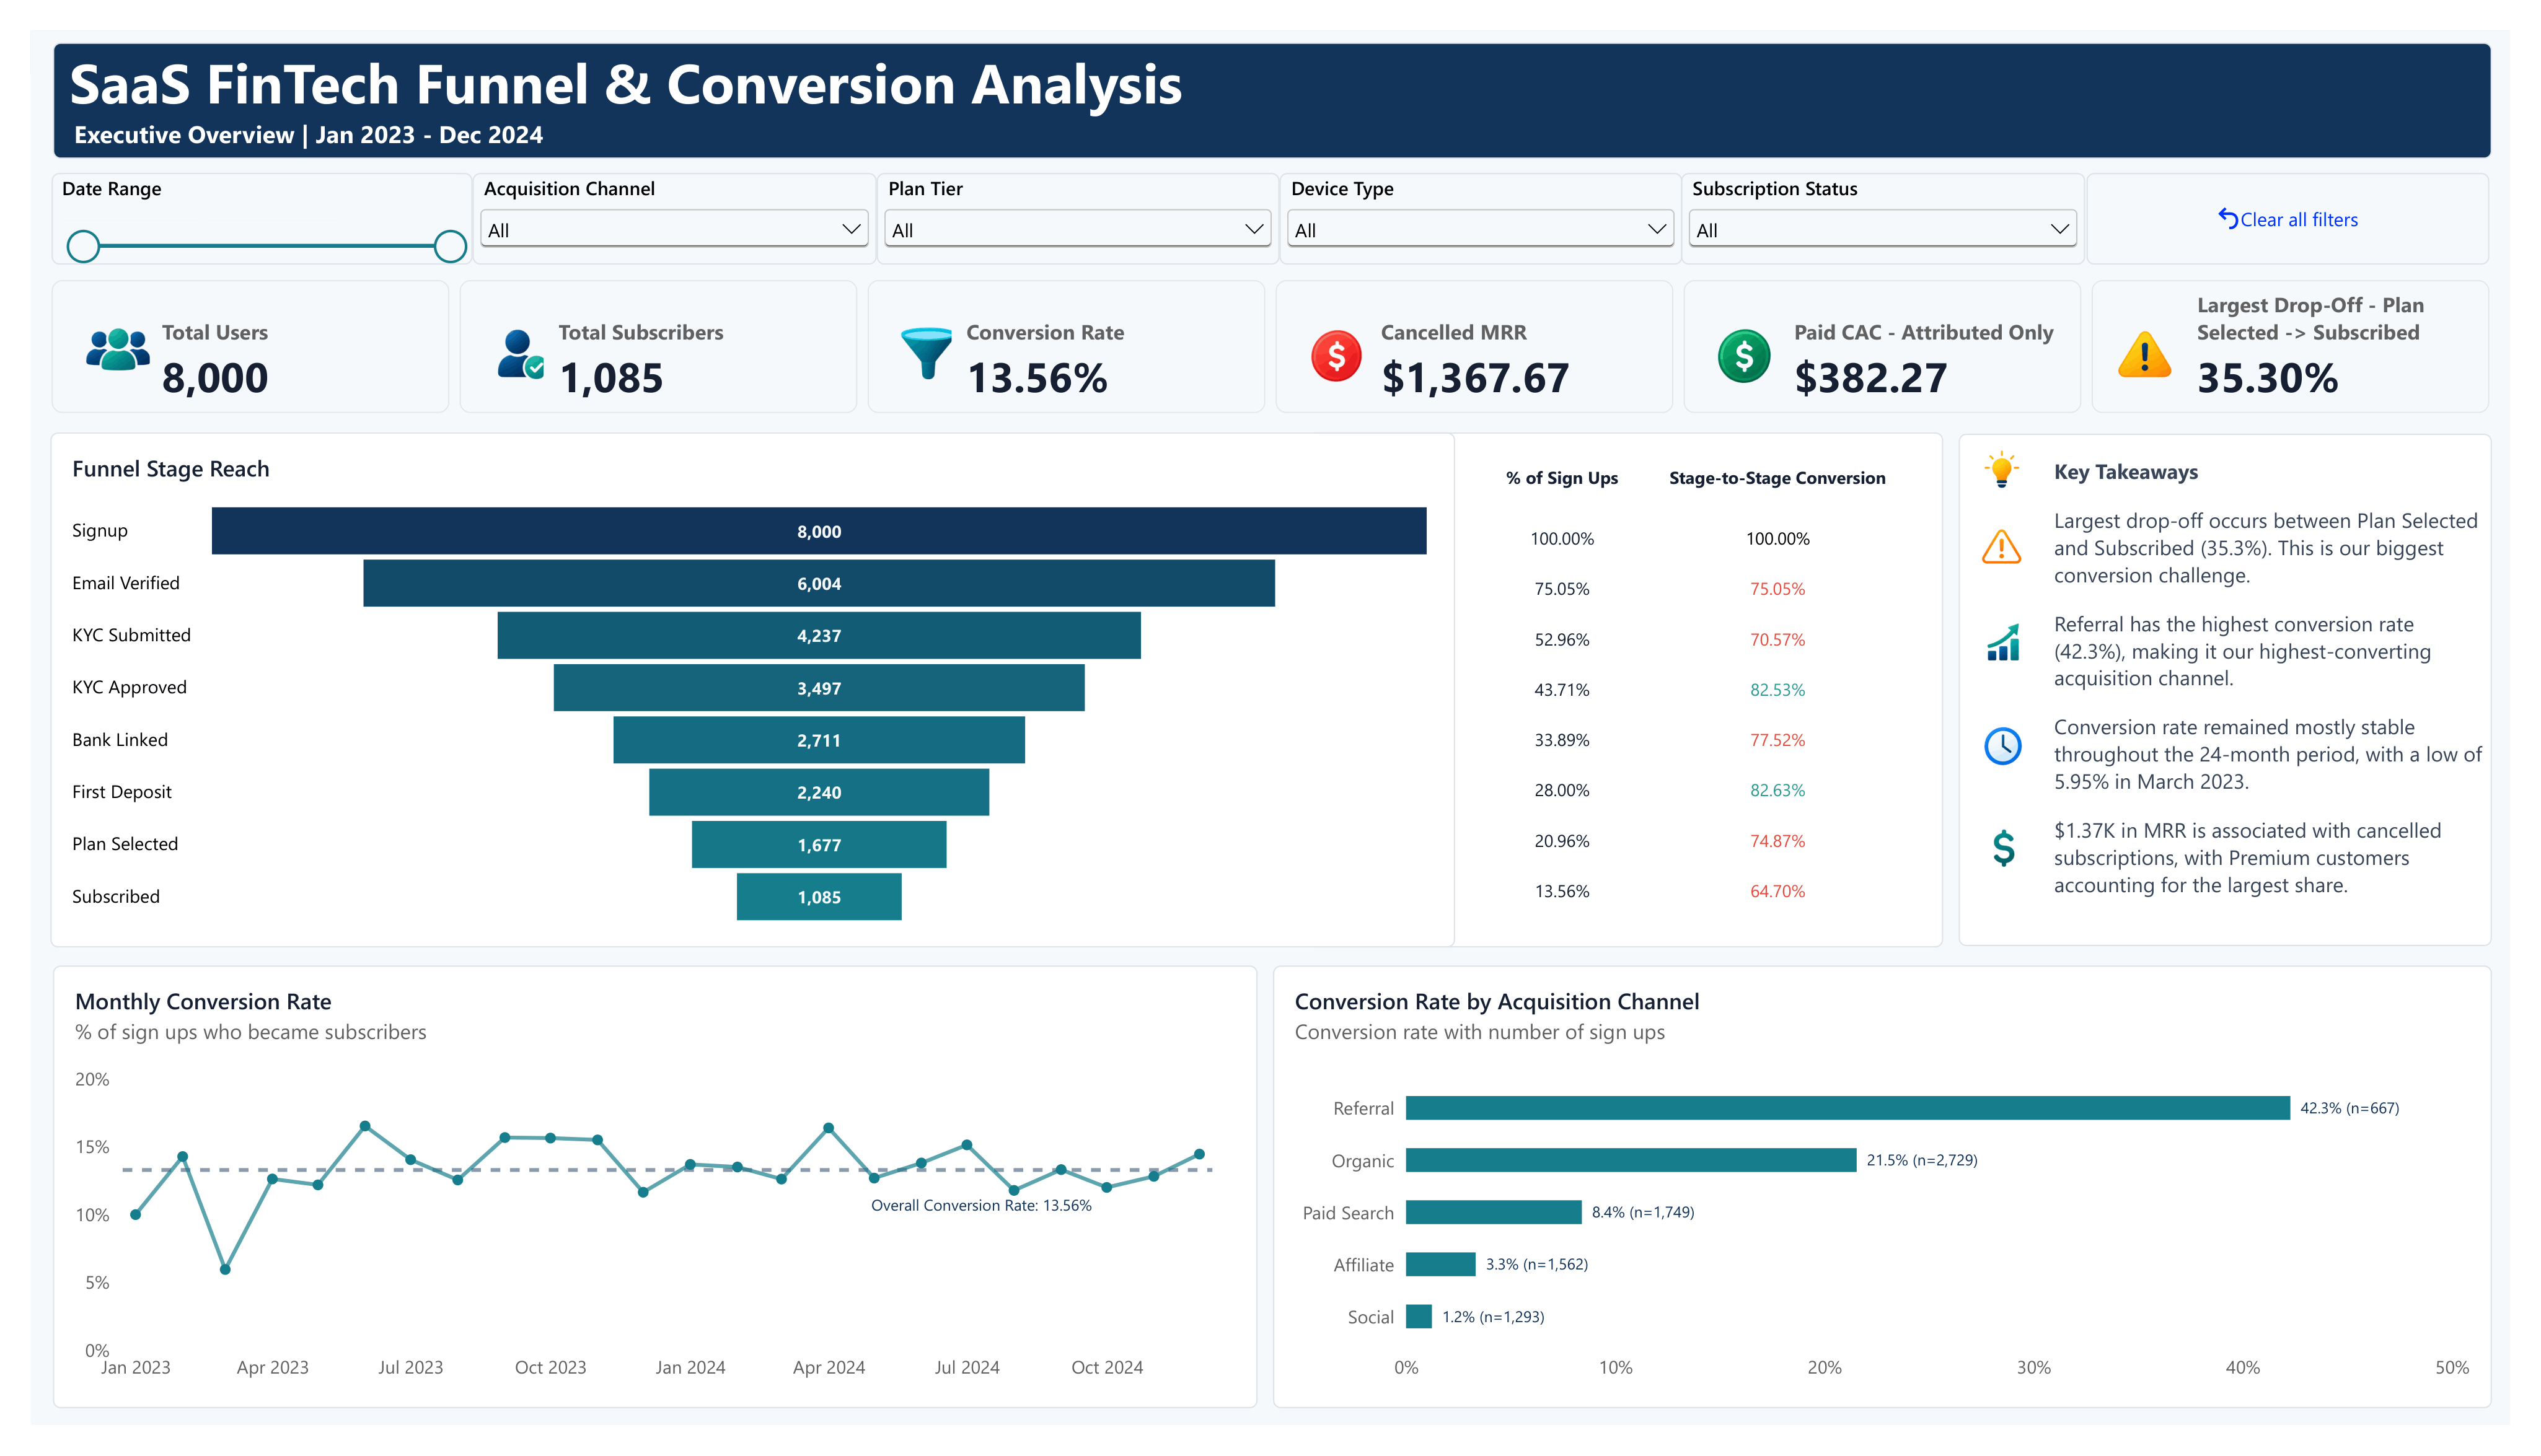

What the dashboard file says about the page in this screenshot:
{"tool":"powerbi","page":{"name":"Executive Overview","canvas":[1920,1080],"ordinal":0},"visuals":[{"type":"tableEx","fields":{"Values":["funnel_stage_summary.stage","Sum(funnel_stage_summary.pct_of_segment_)","Measures (2).Stage-to-Stage Conversion %"]},"box":[990.5,311,490.3,399],"z":0},{"type":"lineChart","title":"Monthly Conversion Rate","fields":{"Y":["Measures (2).Conversion Rate"],"Category":["master.signup_month.Variation.Date Hierarchy.Year","master.signup_month.Variation.Date Hierarchy.Month"]},"box":[17.3,724,933.3,342.7],"z":0,"group":"g2"},{"type":"textbox","box":[17.4,8.7,1888.4,89.9],"z":1000},{"type":"funnel","title":"Funnel Stage Reach","fields":{"Category":["funnel_stage_summary.stage"],"Y":["Sum(funnel_stage_summary.users_reached)"]},"box":[14.7,311,1088,398.7],"z":2000},{"type":"cardVisual","fields":{"Data":["Measures (2).Total Users","Measures (2).Total Subscribers","Measures (2).Conversion Rate","Measures (2).Canceled MRR","Measures (2).CAC","Measures (2).Biggest Drop-Off %"]},"box":[15.8,192.7,1890,103.9],"z":3000},{"type":"group","id":"g1","title":"Group 2","box":[16,110.2,1888,71],"z":4000},{"type":"slicer","fields":{"Values":["master.acquisition_channel"]},"box":[342.4,110.2,312.5,70.5],"z":5000,"group":"g1"},{"type":"barChart","title":"Conversion Rate by Acquisition Channel","fields":{"Category":["master.acquisition_channel"],"Y":["Measures (2).Conversion Rate"]},"box":[961.8,724,944,342.7],"z":5000},{"type":"slicer","fields":{"Values":["master.signup_date"]},"box":[16,110.2,326.4,70.5],"z":6000,"group":"g4"},{"type":"group","id":"g2","title":"Group 1","box":[17.3,724,933.3,342.7],"z":6000},{"type":"slicer","fields":{"Values":["master.Plan Tier"]},"box":[654.6,110.2,312.8,70.7],"z":7000,"group":"g1"},{"type":"textbox","title":"Key Takeaways","box":[1492.7,311.6,413.1,396.6],"z":7000,"group":"g3"},{"type":"slicer","fields":{"Values":["master.device_type"]},"box":[966.5,110.2,312.8,70.7],"z":8000,"group":"g1"},{"type":"image","box":[1499.9,316.3,50.6,39.7],"z":8000,"group":"g3"},{"type":"slicer","fields":{"Values":["master.status"]},"box":[1278,110.2,313.4,70.7],"z":9000,"group":"g1"},{"type":"image","box":[1497.9,375.9,50.6,39.7],"z":9000,"group":"g3"},{"type":"actionButton","box":[1591.5,110.2,312.5,71],"z":10000,"group":"g1"},{"type":"image","box":[1499.9,450.3,50.6,39.7],"z":10000,"group":"g3"},{"type":"image","box":[1497.9,529.8,50.6,39.7],"z":11000,"group":"g3"},{"type":"image","box":[1505,609.2,50.6,39.7],"z":12000,"group":"g3"},{"type":"textbox","box":[24,111.2,305.5,36.3],"z":12001,"group":"g4"},{"type":"group","id":"g3","title":"Group 3","box":[1492.7,311.6,413.1,396.6],"z":12001},{"type":"group","id":"g4","title":"Group 1","box":[16,110.2,326.4,70.5],"z":12002,"group":"g1"},{"type":"textbox","box":[651.8,900,273.2,23.4],"z":13000,"group":"g2"}]}

Visuals, with their boxes on the page's 1920x1080 design canvas (x1, y1, x2, y2). These are canvas units, not pixel positions in the 2541x1456 screenshot, which may show the page scaled, cropped or inside an application window:
tableEx - funnel_stage_summary.stage x Sum(funnel_stage_summary.pct_of_segment_): <bbox>990, 311, 1481, 710</bbox>
"Monthly Conversion Rate" lineChart: <bbox>17, 724, 951, 1067</bbox>
textbox: <bbox>17, 9, 1906, 99</bbox>
"Funnel Stage Reach" funnel: <bbox>15, 311, 1103, 710</bbox>
cardVisual - Measures (2).Total Users x Measures (2).Total Subscribers: <bbox>16, 193, 1906, 297</bbox>
"Group 2" group: <bbox>16, 110, 1904, 181</bbox>
slicer - master.acquisition_channel: <bbox>342, 110, 655, 181</bbox>
"Conversion Rate by Acquisition Channel" barChart: <bbox>962, 724, 1906, 1067</bbox>
slicer - master.signup_date: <bbox>16, 110, 342, 181</bbox>
"Group 1" group: <bbox>17, 724, 951, 1067</bbox>
slicer - master.Plan Tier: <bbox>655, 110, 967, 181</bbox>
"Key Takeaways" textbox: <bbox>1493, 312, 1906, 708</bbox>
slicer - master.device_type: <bbox>966, 110, 1279, 181</bbox>
image: <bbox>1500, 316, 1550, 356</bbox>
slicer - master.status: <bbox>1278, 110, 1591, 181</bbox>
image: <bbox>1498, 376, 1548, 416</bbox>
actionButton: <bbox>1592, 110, 1904, 181</bbox>
image: <bbox>1500, 450, 1550, 490</bbox>
image: <bbox>1498, 530, 1548, 570</bbox>
image: <bbox>1505, 609, 1556, 649</bbox>
textbox: <bbox>24, 111, 330, 148</bbox>
"Group 3" group: <bbox>1493, 312, 1906, 708</bbox>
"Group 1" group: <bbox>16, 110, 342, 181</bbox>
textbox: <bbox>652, 900, 925, 923</bbox>
